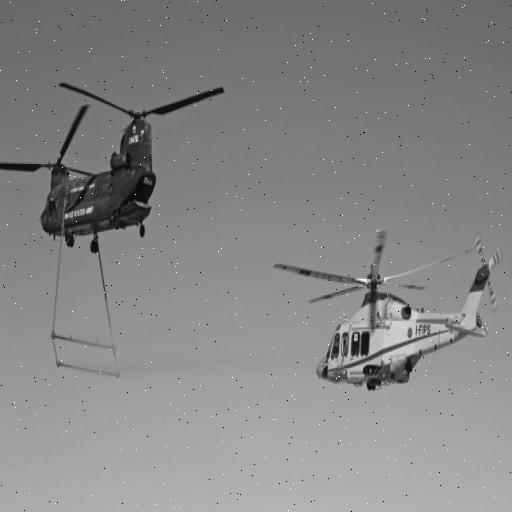helicopter: (1, 79, 229, 244), (275, 228, 504, 390)
